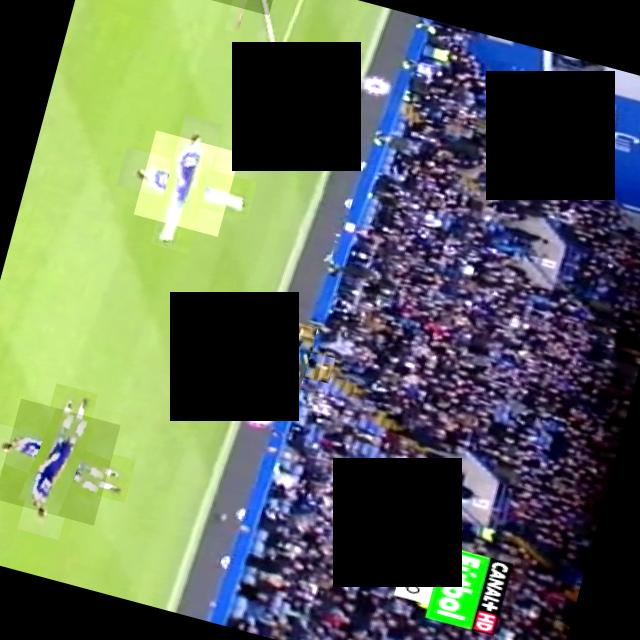referee: (264, 328, 327, 392)
soccer-player: (0, 397, 120, 524), (133, 129, 240, 236), (207, 0, 278, 14)
